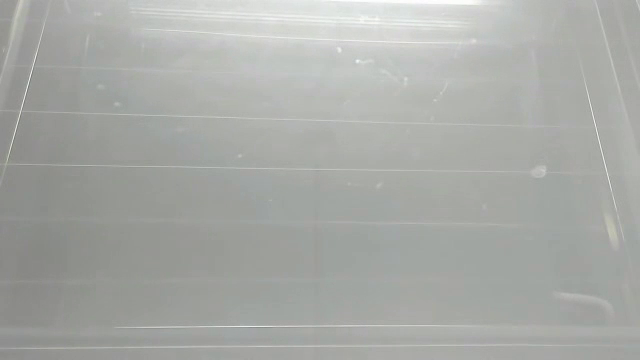alpha: (528, 162, 555, 186)
